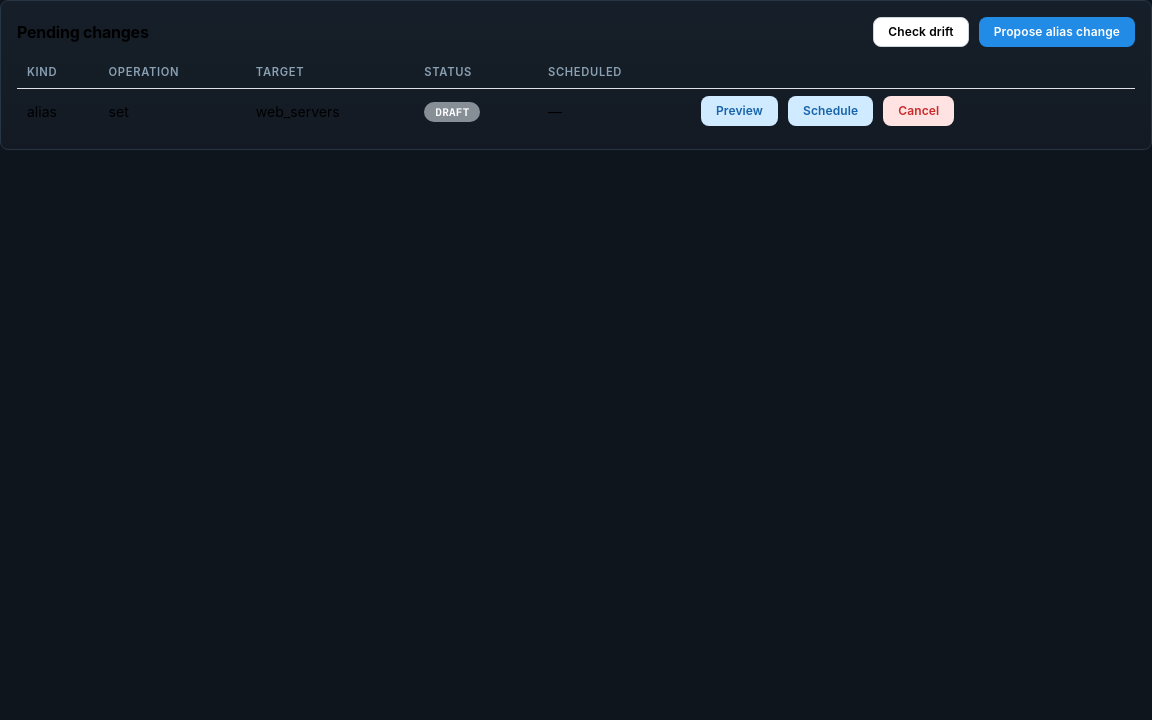
Test: ChangesPanel actions › Preview: opens a modal and renders the preview data
What coordinates should you click on to do the following:
click the button "Preview"
I would click on:
 (739, 111)
Its box is [701, 96, 778, 126].
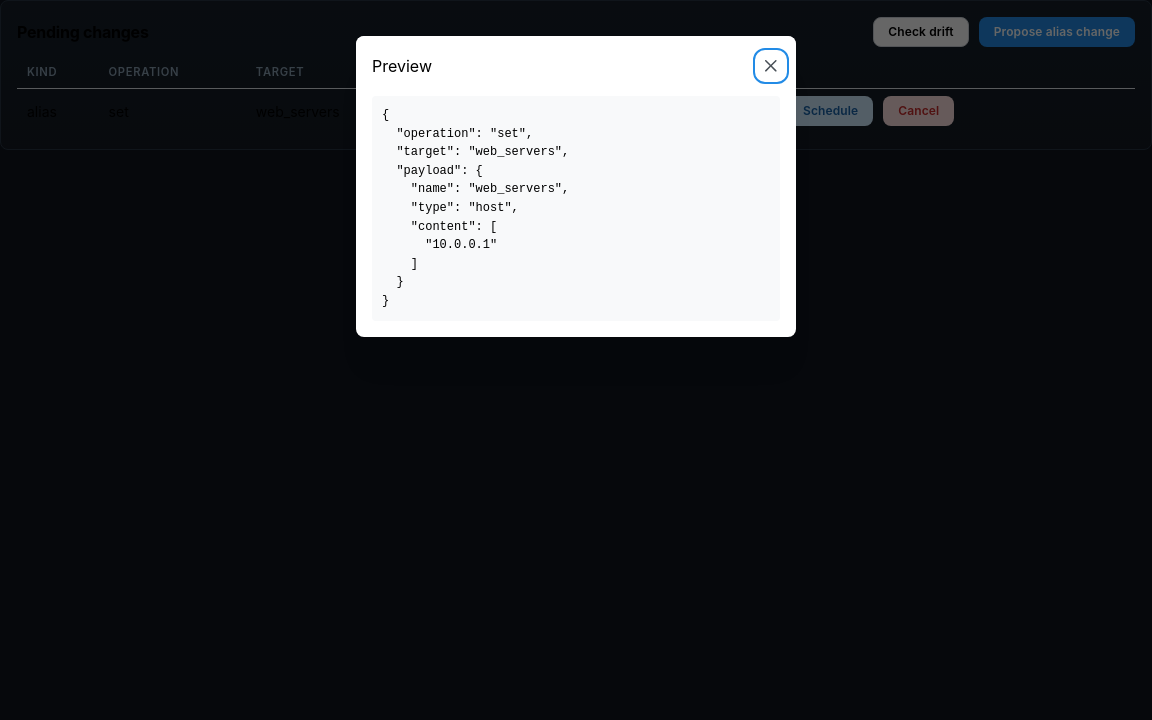
Expected: the text "10.0.0.1" is shown, [382, 108, 569, 308]
